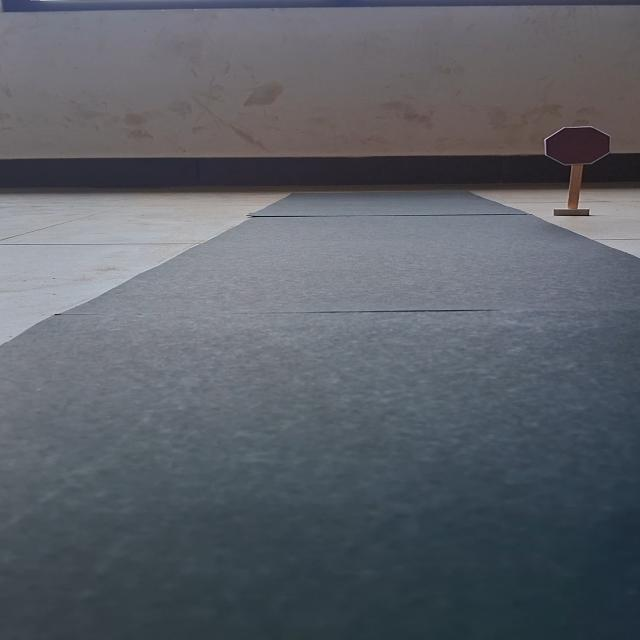Stop: (542, 126, 614, 166)
